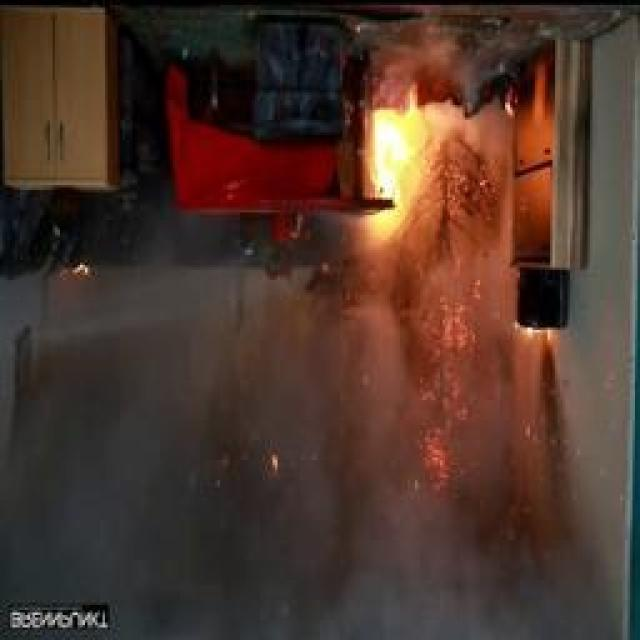fire: (342, 61, 500, 324)
